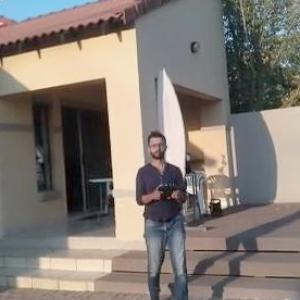follow: (129, 124, 196, 299)
